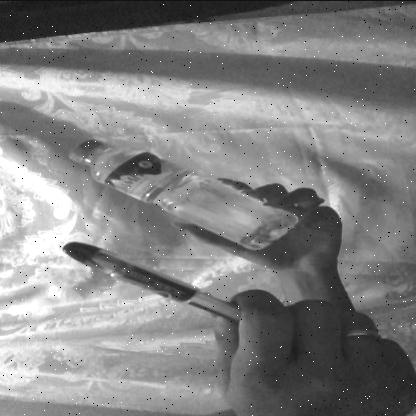Plastic Bottle: (28, 135, 320, 228)
